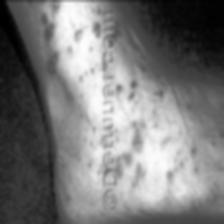Non-Cancerous Skin Condition: (114, 74, 168, 181), (40, 0, 102, 74)
